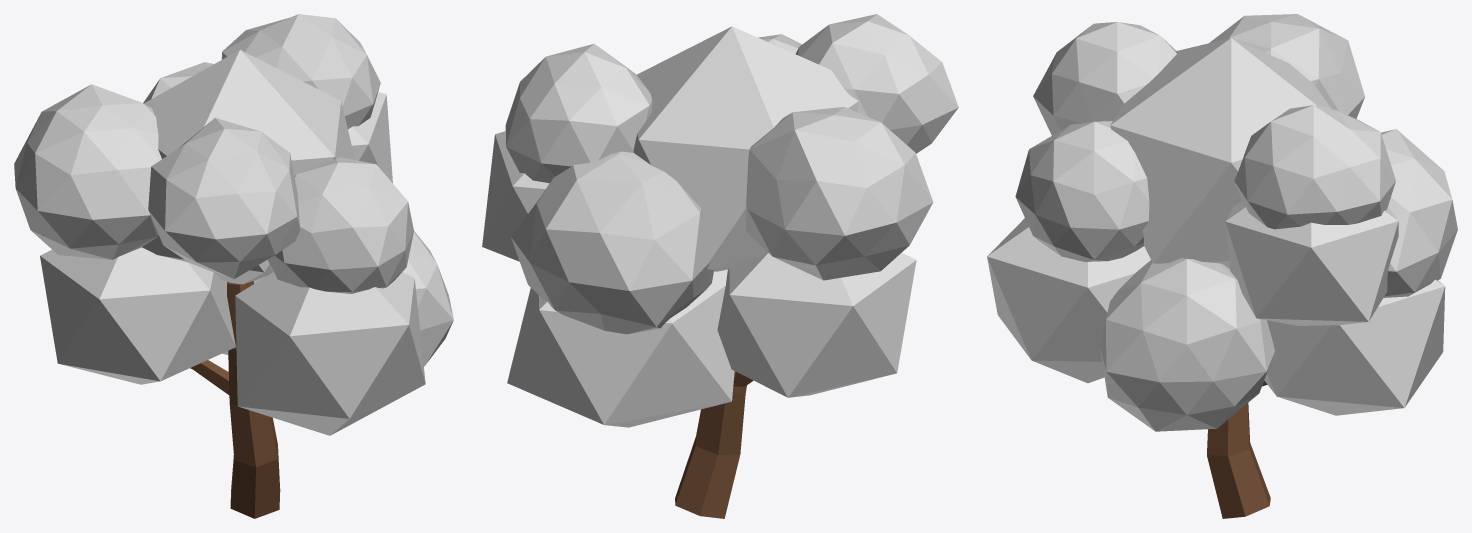
File: tree_round_1.glb
3 views of the same model, side by side, from view 1: azimuth 30°, elevation 25°; view 2: azimuth 150°, elevation 25°; view 3: azimuth 270°, elevation 25° (orthographic). The views are drawn at different scales.
Parts seen in each view (by area): view 1: tree_round_1; view 2: tree_round_1; view 3: tree_round_1.
Boxes of the visible parts, box(x1,y1,x2,y2) form: tree_round_1: box(14, 14, 453, 518); tree_round_1: box(482, 14, 958, 518); tree_round_1: box(987, 14, 1457, 518).
Size of the model in its own units: 4.07 by 4.75 by 4.34.
